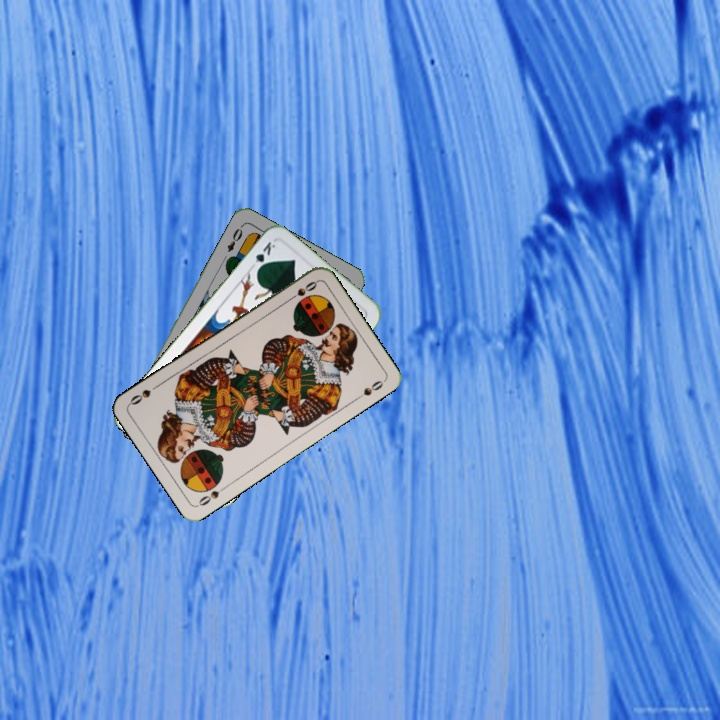EO: (223, 221, 245, 255)
GK: (246, 238, 279, 274)
SO: (194, 481, 230, 509), (283, 277, 320, 304)
